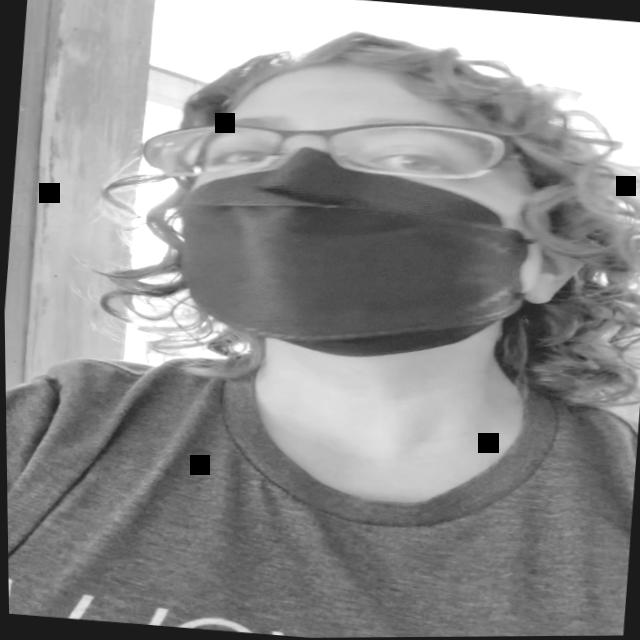Mask: (169, 54, 551, 365)
